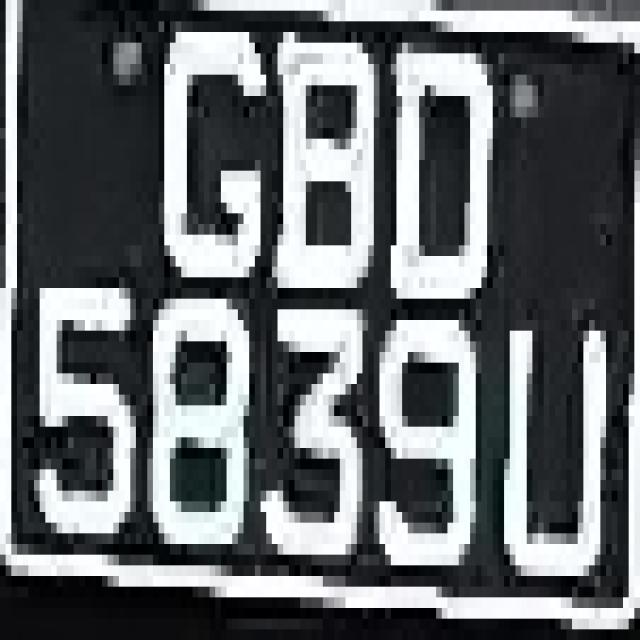3: (266, 278, 374, 598)
5: (17, 256, 136, 565)
8: (142, 277, 266, 544)
9: (362, 288, 482, 576)
B: (271, 0, 385, 309)
D: (374, 21, 504, 331)
G: (136, 11, 266, 277)
U: (487, 288, 617, 608)
